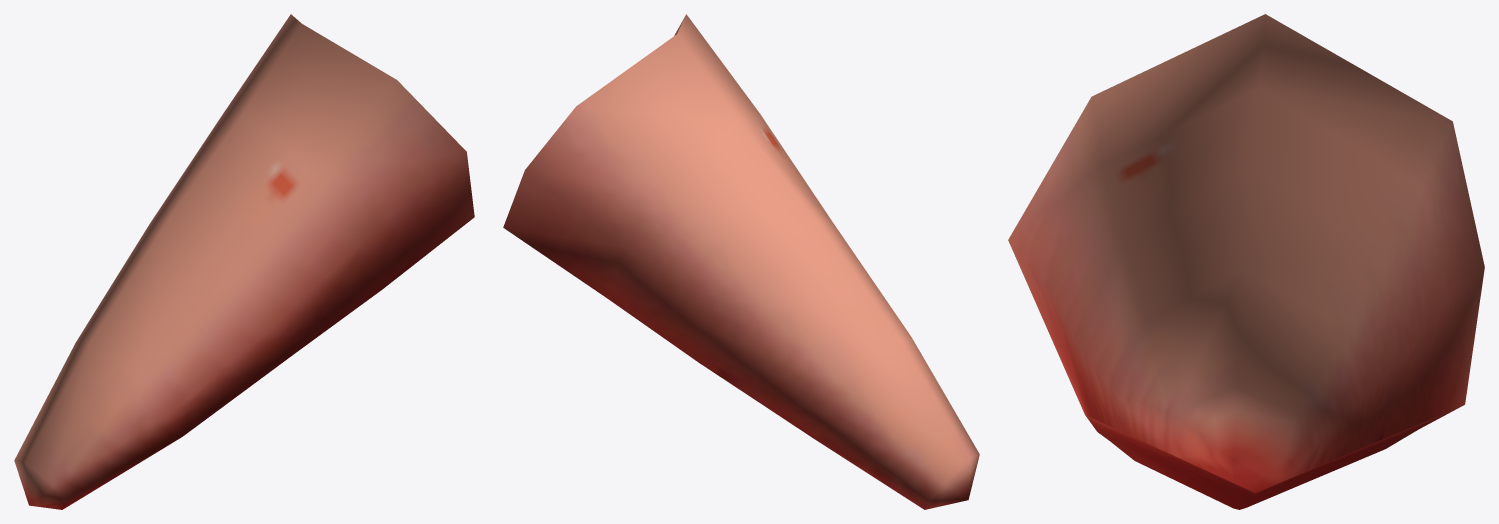
The model's file is braizqpat.obj.
3 views of the same model, side by side, from view 1: azimuth 30°, elevation 25°; view 2: azimuth 150°, elevation 25°; view 3: azimuth 270°, elevation 25° (orthographic). The views are drawn at different scales.
Visible parts, largest first — view 1: brazo_izquierdo; view 2: brazo_izquierdo; view 3: brazo_izquierdo.
Part boxes in pixels (<box>): brazo_izquierdo: <box>14,14,474,509</box>; brazo_izquierdo: <box>503,14,979,509</box>; brazo_izquierdo: <box>1008,14,1484,509</box>.
Bounding box in the file's own units: 0.5464 × 0.5412 × 0.3354.
